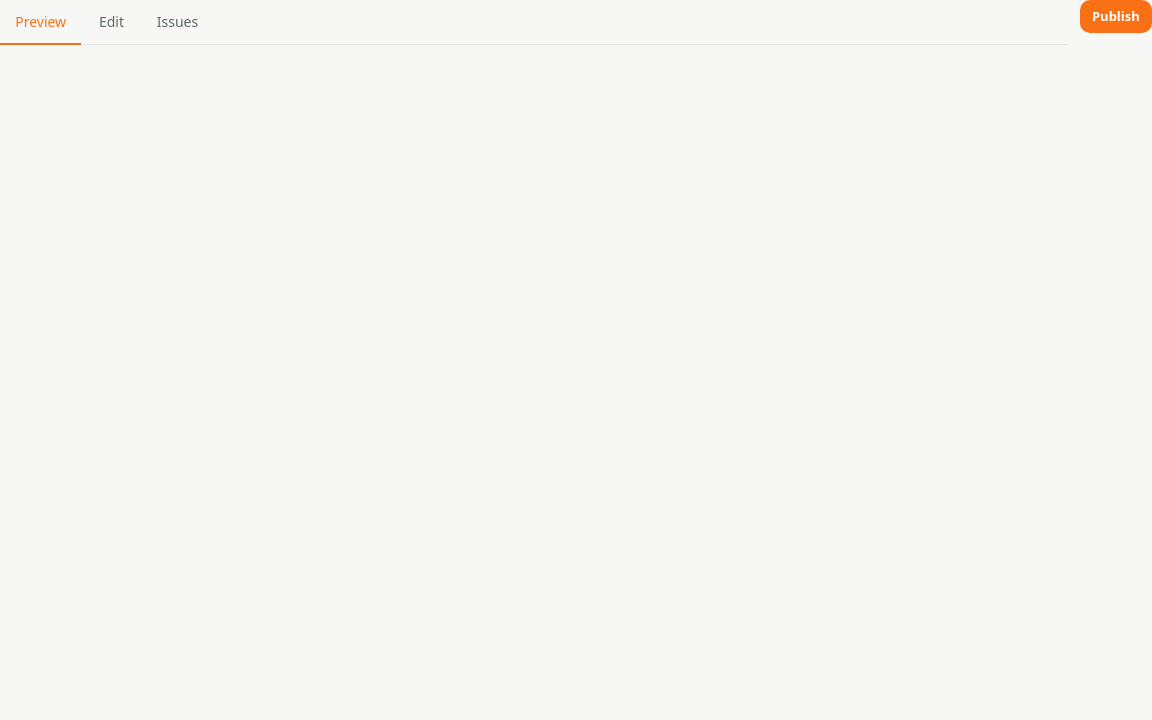
Scenario: Unit Learn workspace canonical actions › publish picker › skipping the link warns and publishes without path_lesson_id, then blocks assigning
The width and height of the screenshot is (1152, 720).
Click the button "Publish".
click(1116, 16)  # box [1080,0,1151,33]
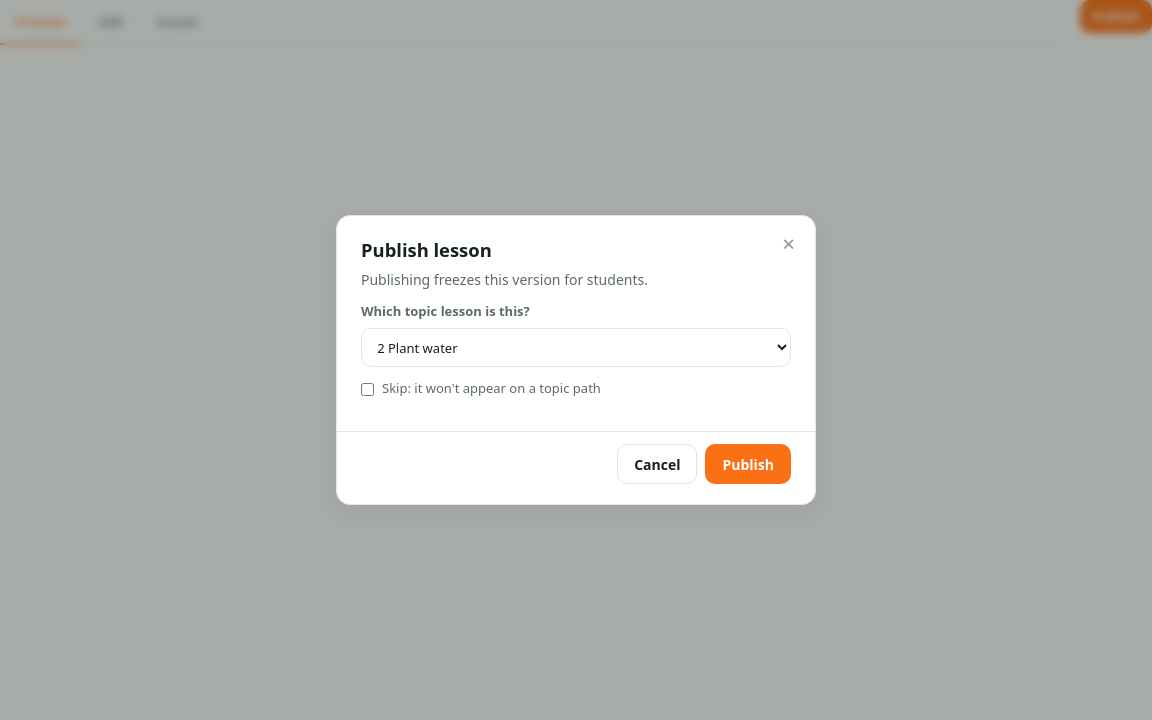
Click the checkbox labelled "Skip: it won't appear on a topic path".
click(368, 389)  # box [361,382,374,396]
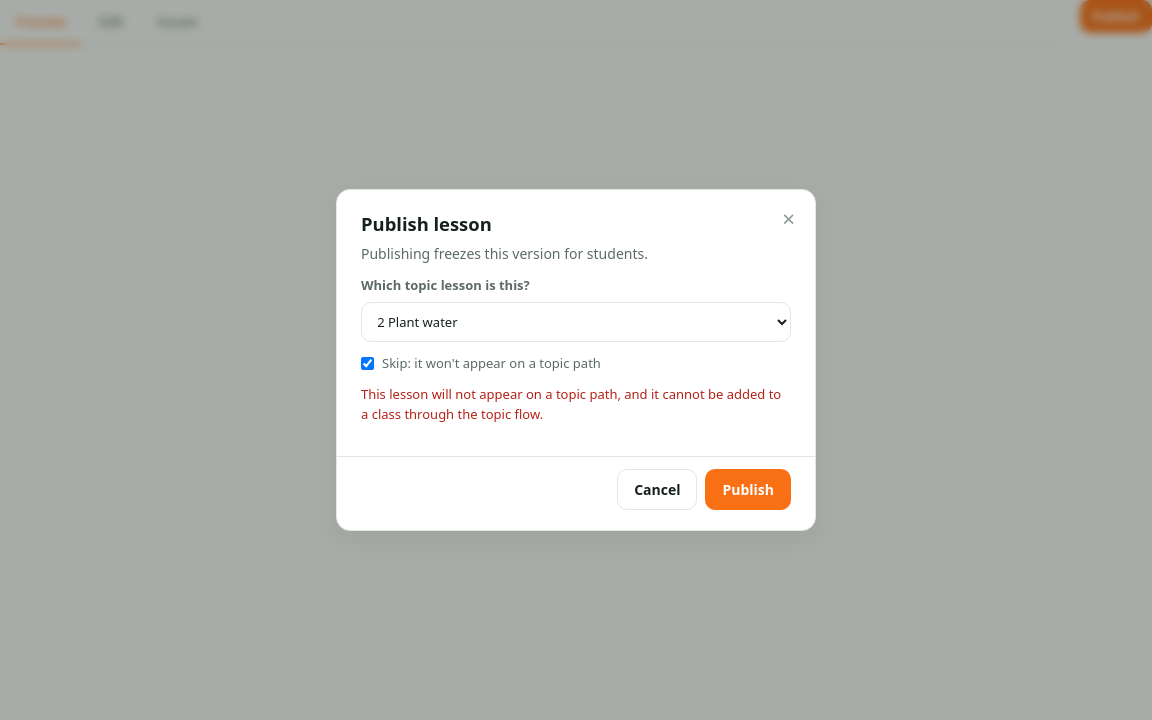
Check: the text "will not appear on a topic path, and" is shown, box [361,385,781,423]
Click the button "Publish".
click(748, 490)  # box [705,469,791,510]
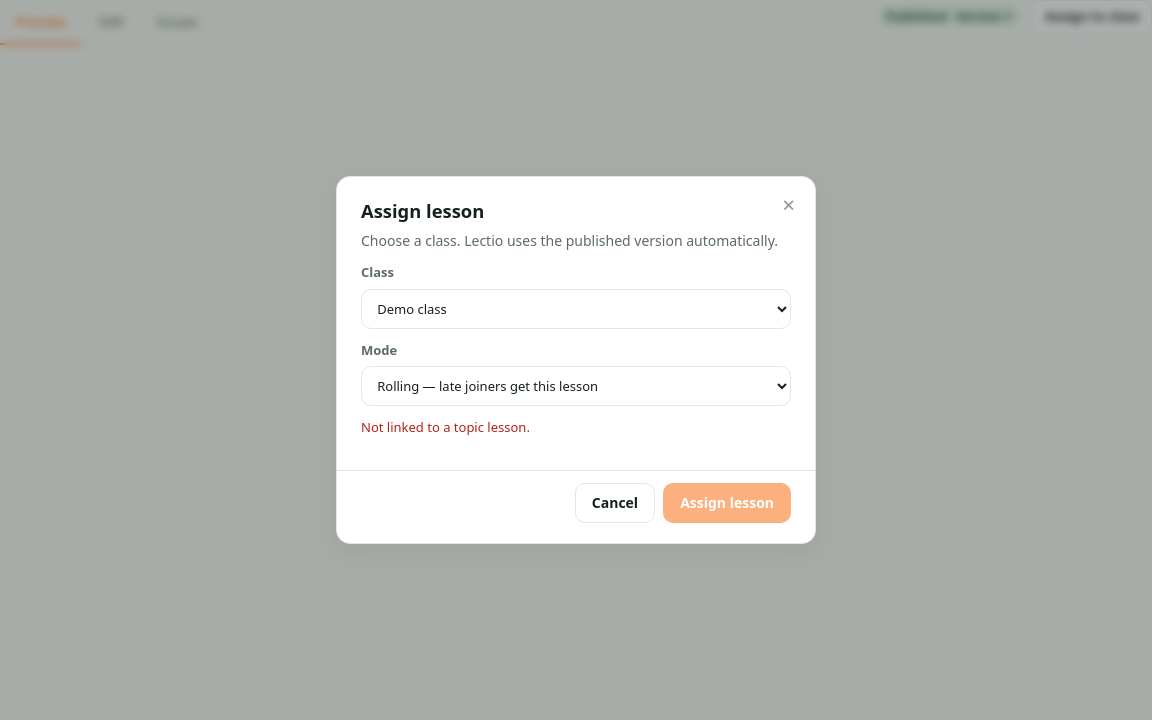
Check: the button "Assign lesson" is disabled, box [663,482,791,523]
Check: the text "Not linked to a topic lesson." is shown, box [361,418,530,436]
